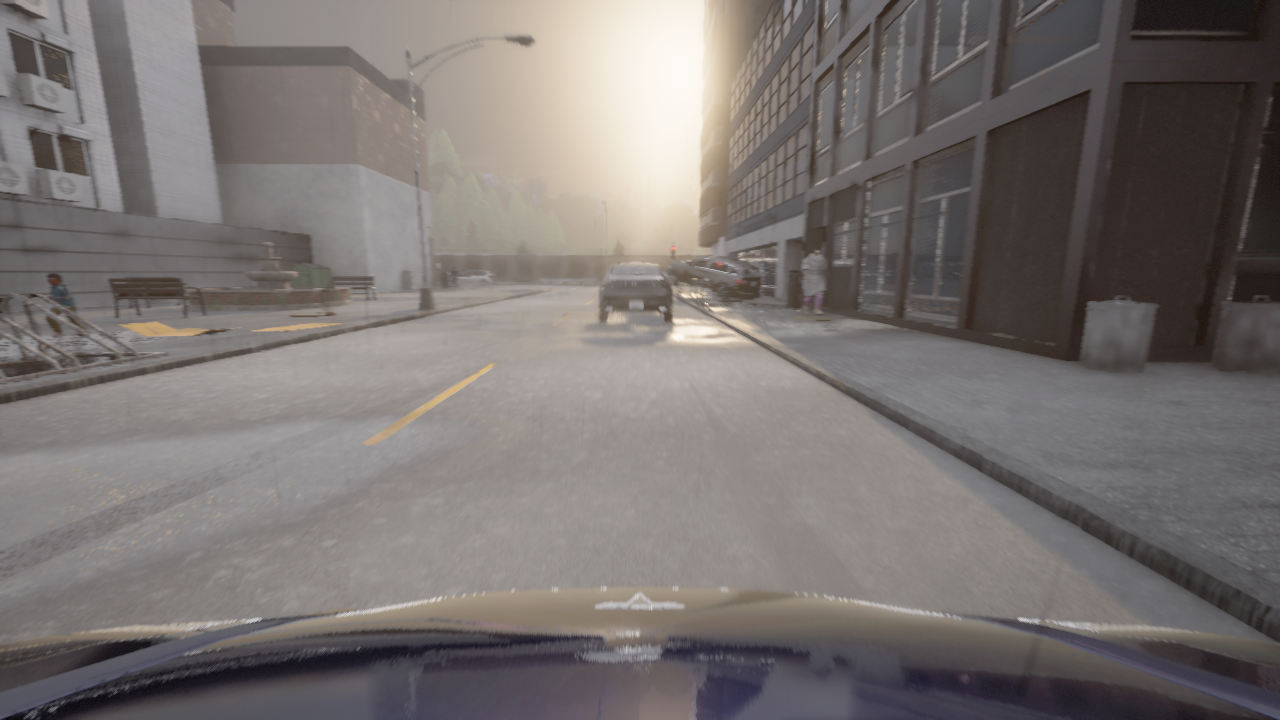cyclist: (0, 588, 1279, 719), (597, 262, 674, 323), (667, 257, 762, 298), (450, 270, 497, 286)
pedestrian: (46, 274, 89, 336), (802, 247, 826, 315), (450, 263, 458, 289), (745, 260, 747, 262)
